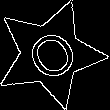O_SE: (17, 21, 83, 87)
